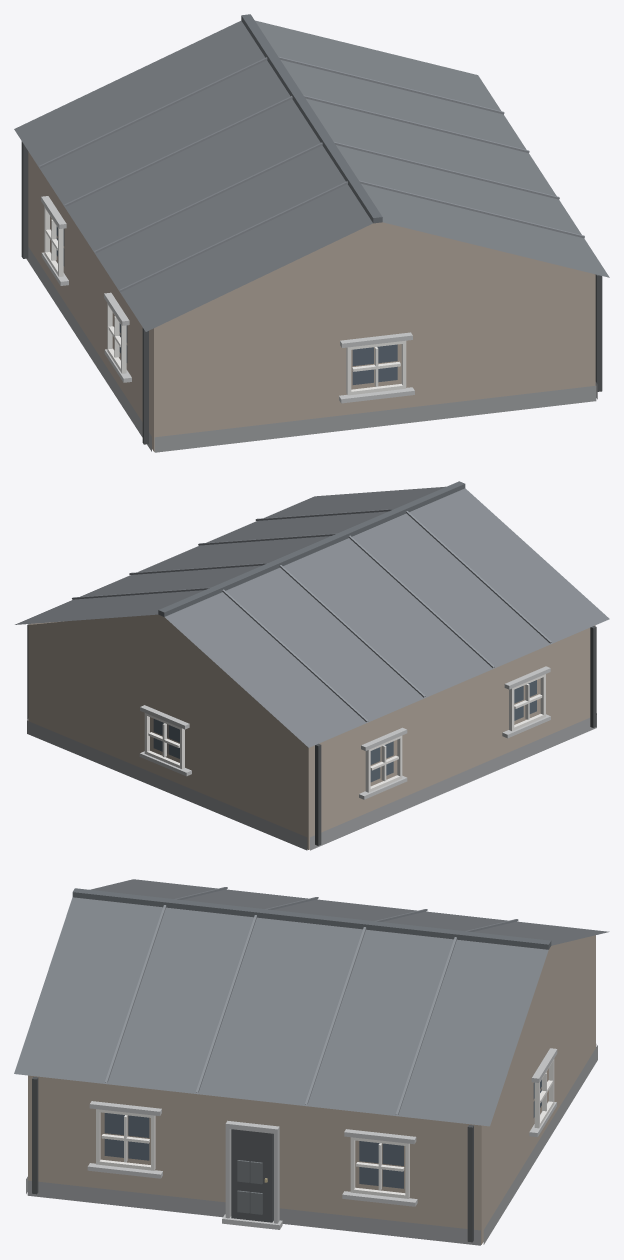
The picture shows the model from 3 angles, top to bottom: view 1: azimuth 30°, elevation 25°; view 2: azimuth 150°, elevation 25°; view 3: azimuth 270°, elevation 25°; orthographic projection. The views are drawn at different scales.
Visible parts, largest first — view 1: slate, harl_brown, plinth, slate_lt, frame, slate_dk, pipe, stone_band; view 2: slate, harl_brown, plinth, slate_lt, frame, slate_dk, stone_band, pipe; view 3: slate, harl_brown, plinth, stone_band, slate_dk, frame, slate_lt, door_dark, pipe, door_dark_p.
Part boxes in pixels (left/top/right/bottom): slate: left=14, top=20, right=609, bottom=331; harl_brown: left=28, top=151, right=595, bottom=451; plinth: left=26, top=247, right=597, bottom=452; slate_lt: left=39, top=56, right=584, bottom=291; frame: left=44, top=206, right=406, bottom=395; slate_dk: left=241, top=14, right=382, bottom=223; pipe: left=21, top=141, right=602, bottom=444; stone_band: left=41, top=196, right=414, bottom=403; slate: left=15, top=486, right=609, bottom=747; harl_brown: left=28, top=614, right=595, bottom=849; plinth: left=27, top=713, right=596, bottom=850; slate_lt: left=72, top=509, right=551, bottom=722; frame: left=144, top=674, right=545, bottom=792; slate_dk: left=158, top=481, right=465, bottom=616; stone_band: left=139, top=666, right=550, bottom=799; pipe: left=27, top=624, right=596, bottom=845; slate: left=14, top=879, right=609, bottom=1126; harl_brown: left=28, top=935, right=595, bottom=1244; plinth: left=26, top=1044, right=597, bottom=1245; stone_band: left=87, top=1048, right=557, bottom=1229; slate_dk: left=72, top=888, right=551, bottom=949; frame: left=96, top=1059, right=554, bottom=1198; slate_lt: left=105, top=887, right=518, bottom=1115; door_dark: left=231, top=1129, right=273, bottom=1222; pipe: left=32, top=1077, right=473, bottom=1242; door_dark_p: left=237, top=1160, right=262, bottom=1214.
Size of the model in its own units: 12.15 by 4.86 by 12.38.
